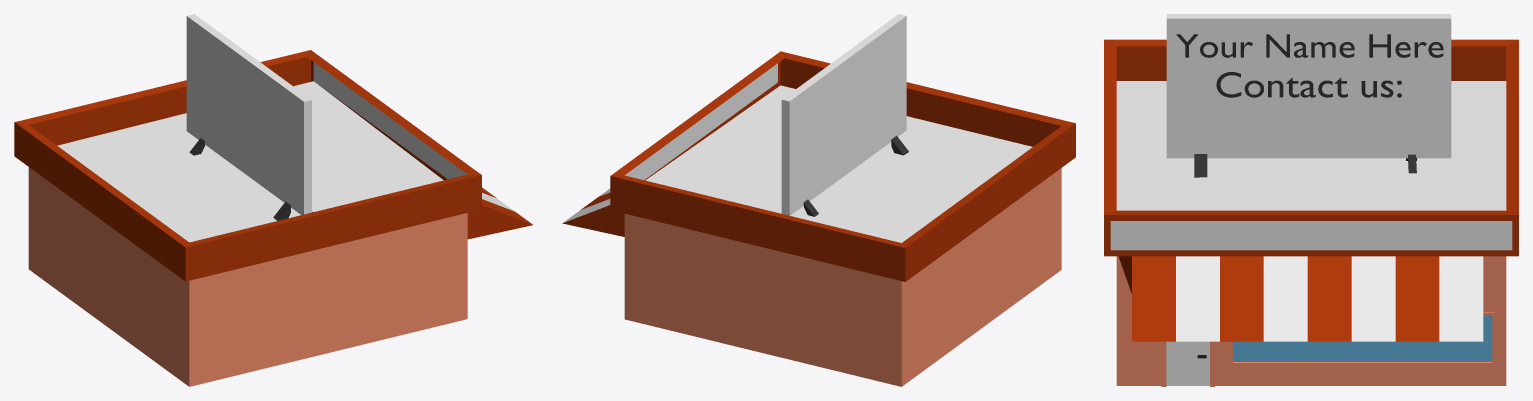
Rendered from red Shop 2.fbx.
3 views of the same model, side by side, from view 1: azimuth 30°, elevation 25°; view 2: azimuth 150°, elevation 25°; view 3: azimuth 270°, elevation 25° (orthographic). The views are drawn at different scales.
Parts seen in each view (by area): view 1: Cube.001; view 2: Cube.001; view 3: Cube.001.
Boxes of the visible parts, x1=… form: Cube.001: x1=14, y1=14, x2=532, y2=386; Cube.001: x1=562, y1=14, x2=1075, y2=386; Cube.001: x1=1104, y1=14, x2=1518, y2=386.
Bounding box in the file's own units: 258 × 163 × 213.
